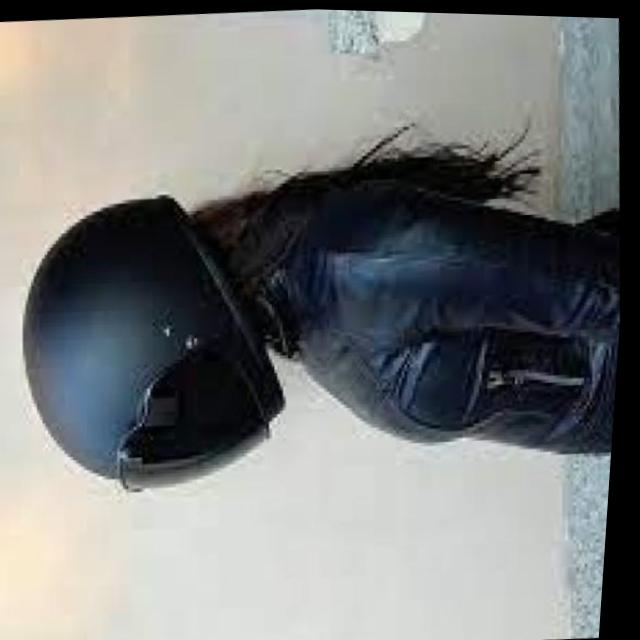WITH_HELMET: (6, 181, 305, 493)
